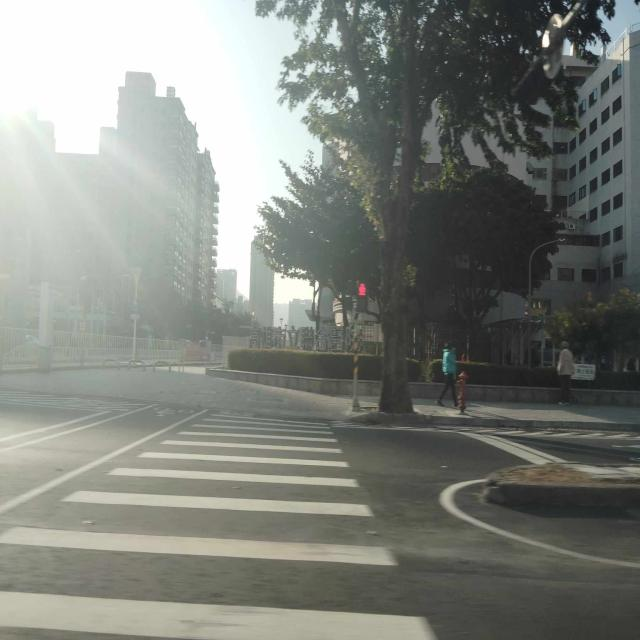person: (438, 342, 459, 406), (558, 342, 575, 404)
zebra crossing: (0, 411, 432, 636)
